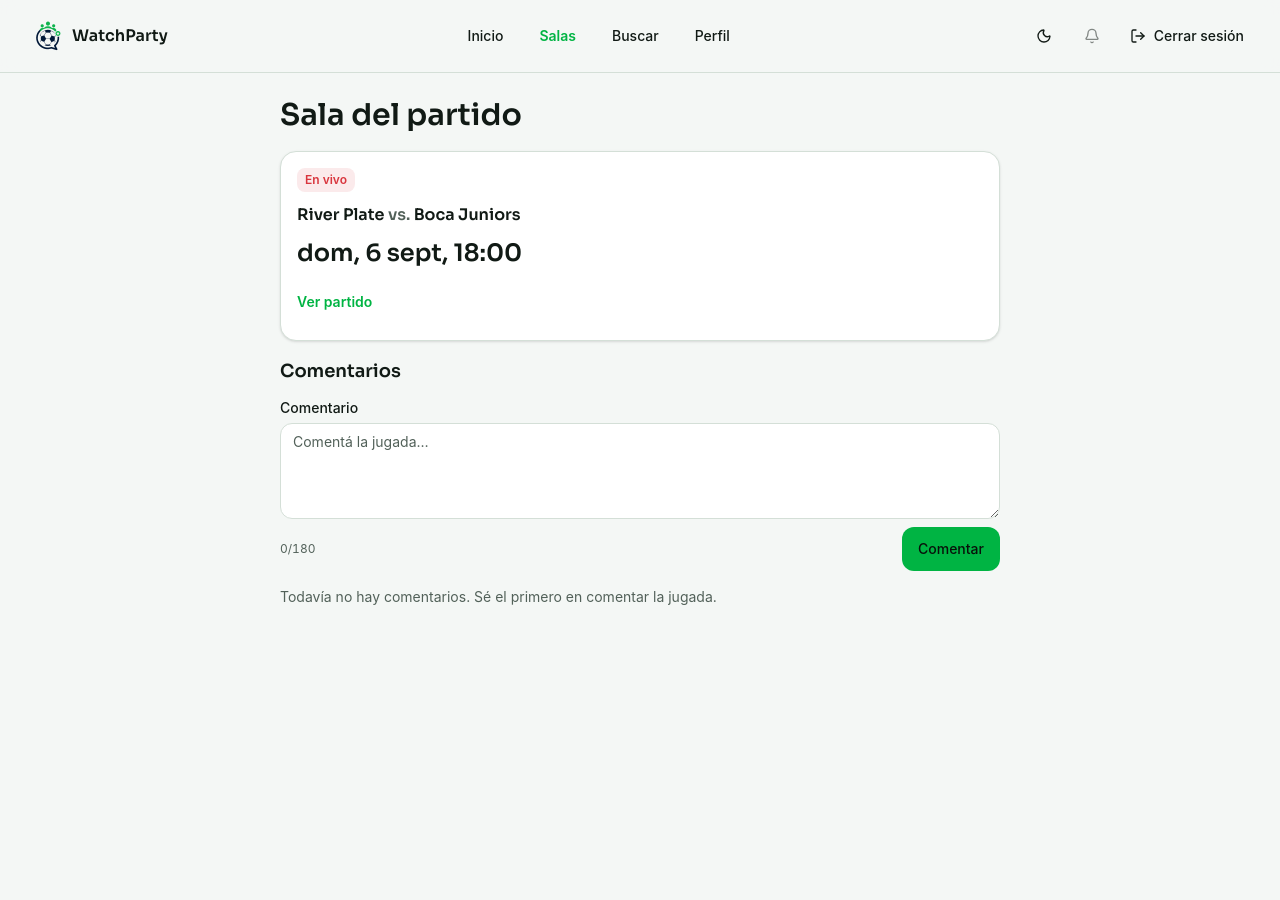
Sala: reconciliación de comentarios al reconectar › el borrador sin enviar no cambia durante la reconciliación
This screenshot has width=1280, height=900.
Expected: the text "Todavía no hay comentarios. Sé el primero en comentar la jugada." is shown, [280,588,717,604]
Type "Borrador sin enviar" into the text box labelled "Comentario".
click(640, 470); type("Borrador sin enviar")  # box [280,422,1000,518]
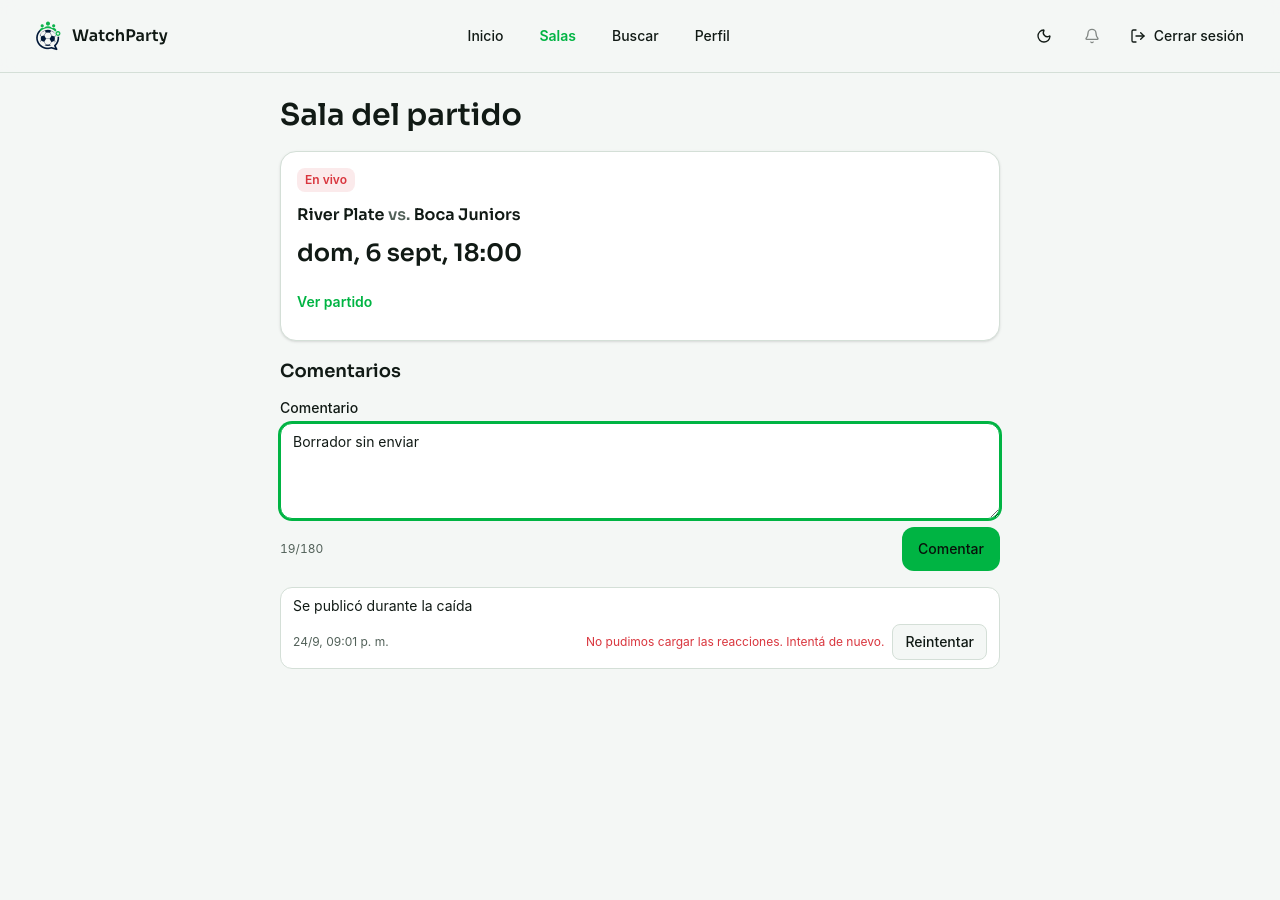
Expected: the text "Se publicó durante la caída" is shown, [293,596,472,614]
